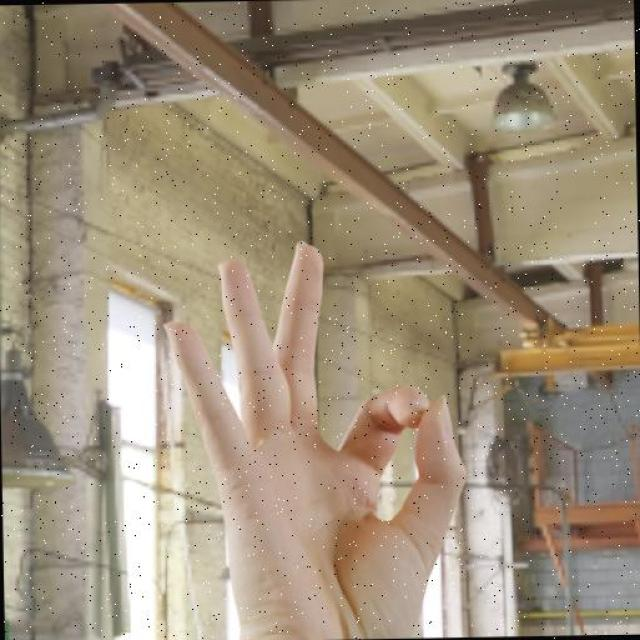F: (160, 235, 473, 640)
